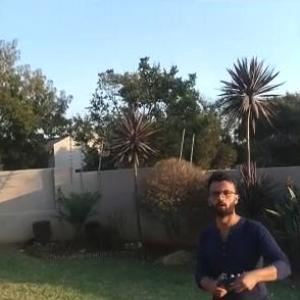follow: (188, 165, 295, 299)
